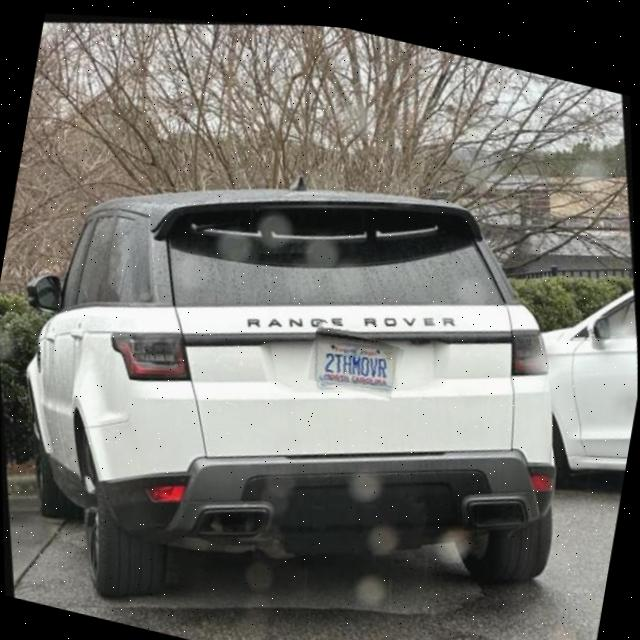LicensePlate: (314, 332, 394, 384)
